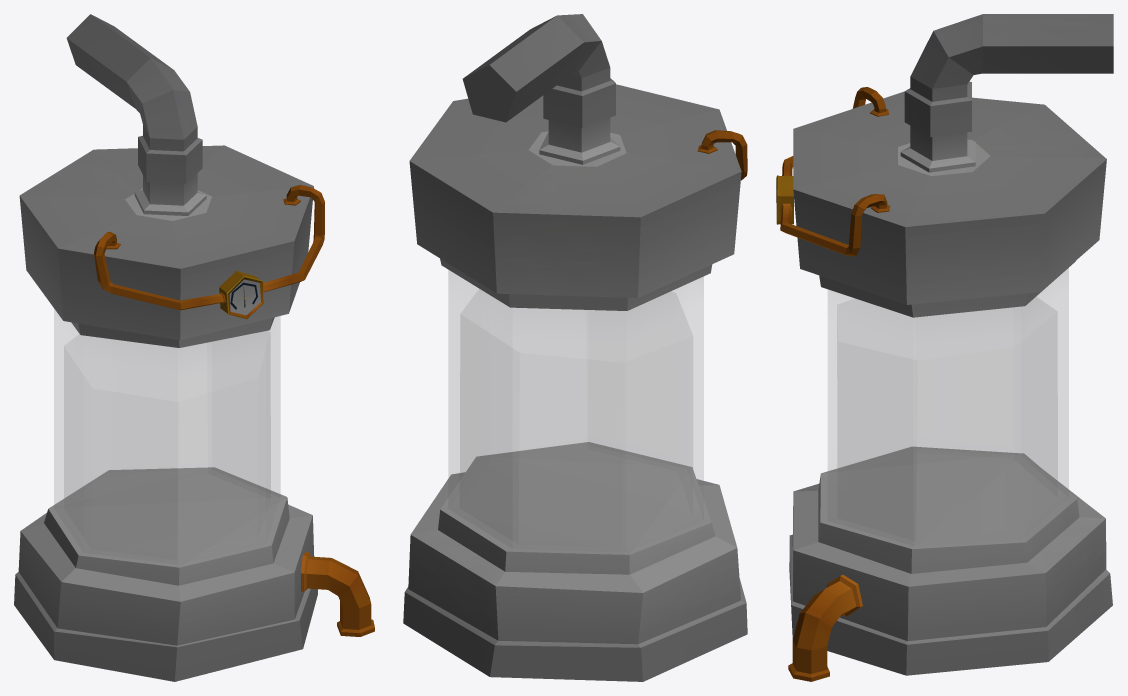
File: Tank.glb
The picture shows the model from 3 angles, left to right: view 1: azimuth 30°, elevation 25°; view 2: azimuth 150°, elevation 25°; view 3: azimuth 270°, elevation 25°; orthographic projection. The views are drawn at different scales.
Parts seen in each view (by area): view 1: Tank; view 2: Tank; view 3: Tank.
Part boxes in pixels (x1,y1,x2,y2): Tank: [14, 14, 374, 681]; Tank: [403, 14, 747, 681]; Tank: [776, 14, 1113, 681].
Size of what is drawn, in the model's own units: 1.85 by 3.48 by 1.8.
Materials: 2 (2 with a texture image).
